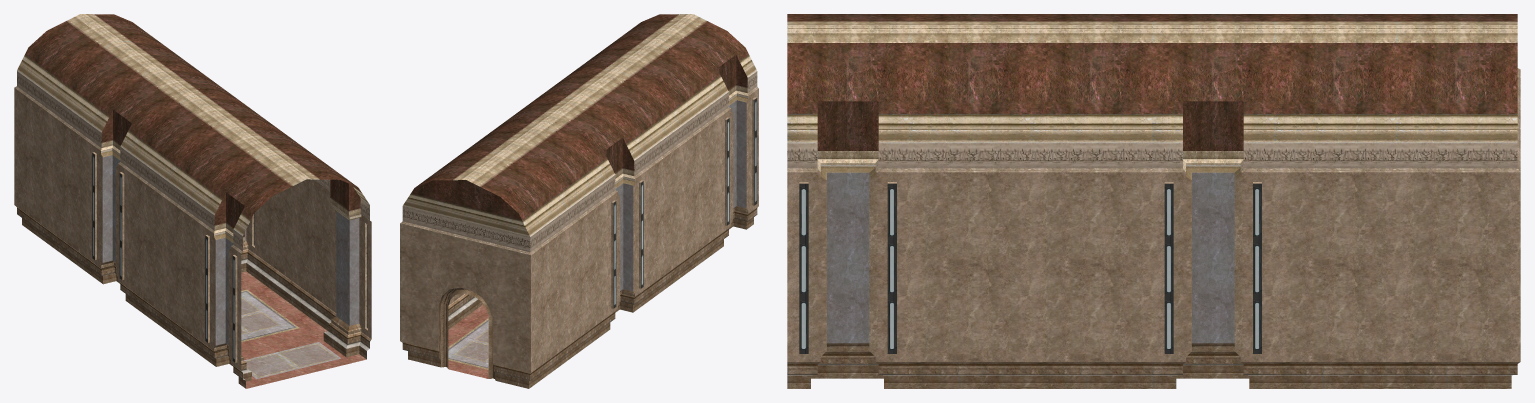
File: thm_nboo_thed_theed_palace_r33_mesh_r33.fbx
3 views of the same model, side by side, from view 1: azimuth 30°, elevation 25°; view 2: azimuth 150°, elevation 25°; view 3: azimuth 270°, elevation 25° (orthographic). The views are drawn at different scales.
Parts seen in each view (by area): view 1: mesh_node; view 2: mesh_node; view 3: mesh_node.
Boxes of the visible parts, bbox=[...] form: mesh_node: bbox=[14, 14, 371, 388]; mesh_node: bbox=[400, 14, 758, 388]; mesh_node: bbox=[787, 14, 1520, 388].
Bounding box in the file's own units: 8.26 × 11.41 × 24.1.
